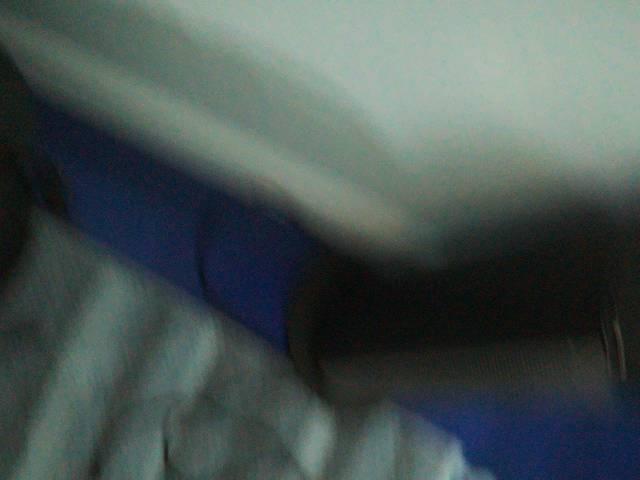shadow: (84, 406, 128, 480)
